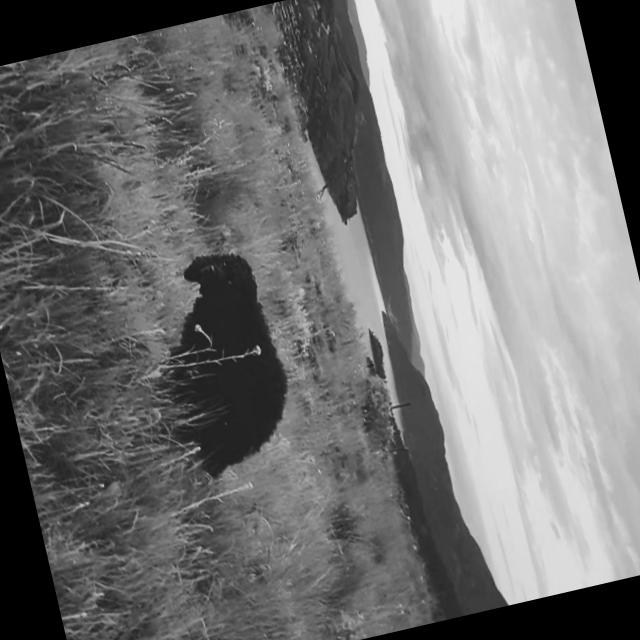squatting: (124, 234, 311, 492)
